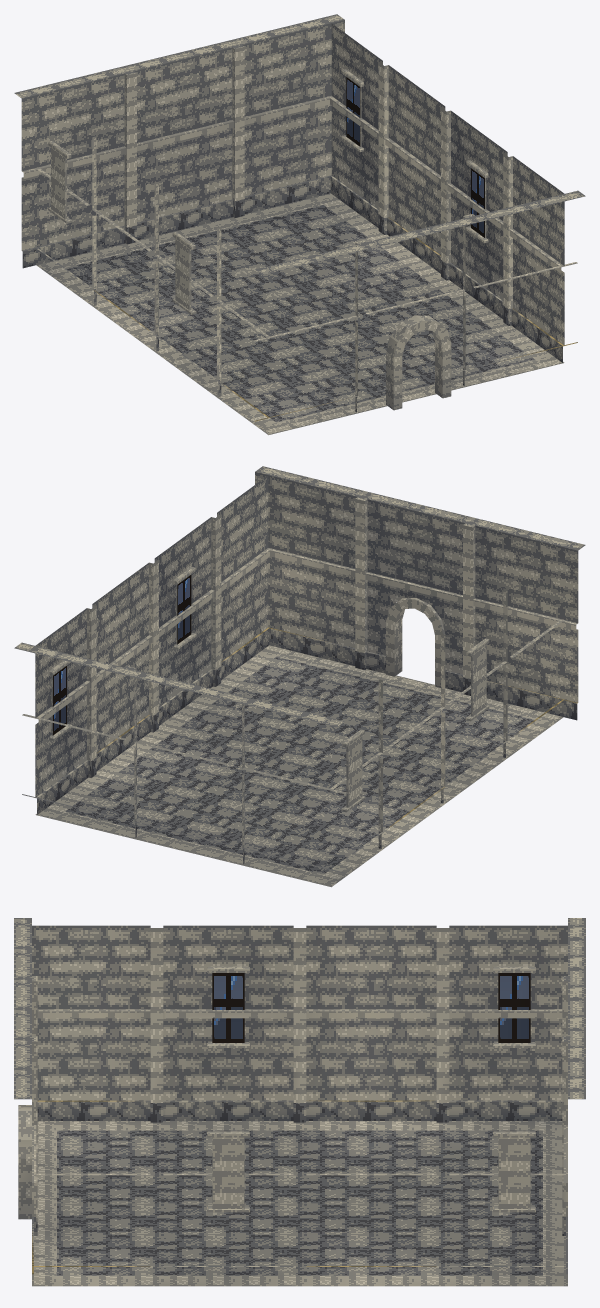
Rendered from cst.hall__great.glb.
3 views of the same model, one above another, from view 1: azimuth 30°, elevation 25°; view 2: azimuth 150°, elevation 25°; view 3: azimuth 270°, elevation 25° (orthographic). The views are drawn at different scales.
Visible parts, largest first — view 1: kit_shell_walls, kit_shell_floor, kit_fittings; view 2: kit_shell_walls, kit_shell_floor, kit_fittings; view 3: kit_shell_walls, kit_shell_floor, kit_fittings.
Boxes of the visible parts, bbox=[...] form: kit_shell_walls: bbox=[14, 14, 585, 421]; kit_shell_floor: bbox=[36, 193, 564, 435]; kit_fittings: bbox=[48, 69, 488, 410]; kit_shell_walls: bbox=[14, 466, 585, 873]; kit_shell_floor: bbox=[35, 645, 563, 887]; kit_fittings: bbox=[49, 567, 489, 812]; kit_shell_walls: bbox=[14, 918, 585, 1274]; kit_shell_floor: bbox=[32, 1121, 567, 1286]; kit_fittings: bbox=[18, 966, 535, 1219].
Size of the model in its own units: 12 by 6 by 16.
5 materials, 5 textured.
